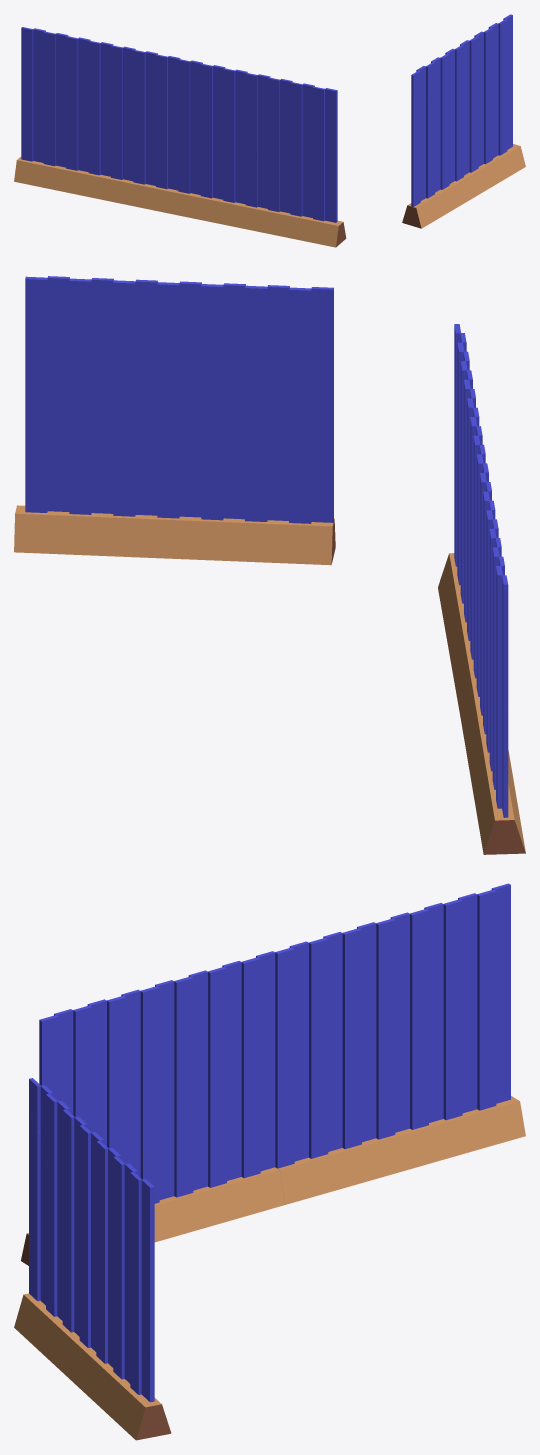
The model's file is wall.fbx.
3 views of the same model, one above another, from view 1: azimuth 30°, elevation 25°; view 2: azimuth 150°, elevation 25°; view 3: azimuth 270°, elevation 25° (orthographic). The views are drawn at different scales.
Parts seen in each view (by area): view 1: wall.003_cell, wall.002_cell.002, wall.003_cell.001, wall.001_cell, wall.002_cell.001, wall.002_cell, wall.001_cell.002, wall.006, wall.004, wall.003_cell.002, wall.005, wall.001_cell.001; view 2: wall.001_cell, wall.001_cell.002, wall.005, wall.001_cell.001, wall.004, wall.003_cell.001, wall.006, wall.003_cell, wall.002_cell.002, wall.002_cell, wall.003_cell.002, wall.002_cell.001; view 3: wall.003_cell, wall.003_cell.001, wall.002_cell, wall.001_cell, wall.002_cell.002, wall.002_cell.001, wall.001_cell.002, wall.004, wall.003_cell.002, wall.005, wall.006, wall.001_cell.001.
Boxes of the visible parts, bbox=[...] form: wall.003_cell: bbox=[67, 79, 178, 190]; wall.002_cell.002: bbox=[259, 74, 337, 222]; wall.003_cell.001: bbox=[21, 27, 180, 100]; wall.001_cell: bbox=[411, 14, 512, 122]; wall.002_cell.001: bbox=[178, 126, 318, 220]; wall.002_cell: bbox=[178, 59, 262, 157]; wall.001_cell.002: bbox=[429, 104, 512, 196]; wall.006: bbox=[174, 191, 346, 247]; wall.004: bbox=[14, 156, 178, 214]; wall.003_cell.002: bbox=[21, 97, 72, 169]; wall.005: bbox=[402, 144, 525, 228]; wall.001_cell.001: bbox=[411, 94, 430, 206]; wall.001_cell: bbox=[25, 276, 333, 469]; wall.001_cell.002: bbox=[25, 355, 285, 521]; wall.005: bbox=[14, 505, 335, 565]; wall.001_cell.001: bbox=[282, 322, 333, 523]; wall.004: bbox=[461, 687, 525, 854]; wall.003_cell.001: bbox=[476, 454, 508, 707]; wall.006: bbox=[438, 553, 476, 721]; wall.003_cell: bbox=[476, 491, 492, 771]; wall.002_cell.002: bbox=[454, 324, 472, 566]; wall.002_cell: bbox=[464, 387, 485, 566]; wall.003_cell.002: bbox=[492, 661, 508, 817]; wall.002_cell.001: bbox=[457, 530, 476, 678]; wall.003_cell: bbox=[275, 985, 441, 1168]; wall.003_cell.001: bbox=[275, 883, 510, 1008]; wall.002_cell: bbox=[152, 951, 275, 1122]; wall.001_cell: bbox=[29, 1078, 154, 1363]; wall.002_cell.002: bbox=[39, 987, 157, 1160]; wall.002_cell.001: bbox=[122, 1061, 275, 1203]; wall.001_cell.002: bbox=[47, 1158, 154, 1402]; wall.004: bbox=[278, 1096, 525, 1204]; wall.003_cell.002: bbox=[434, 998, 510, 1121]; wall.005: bbox=[14, 1293, 171, 1440]; wall.006: bbox=[21, 1167, 285, 1265]; wall.001_cell.001: bbox=[29, 1110, 48, 1311].
Bounding box in the file's own units: 4.68 × 6.87 × 2.48.
